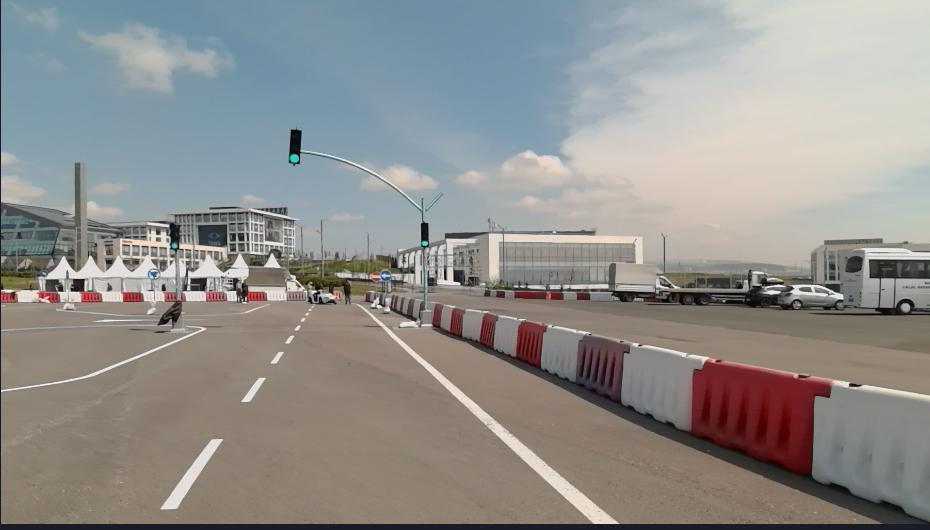nesne: (3, 300, 623, 529), (432, 302, 929, 522), (150, 302, 621, 530), (0, 302, 315, 526), (353, 301, 619, 526), (692, 354, 827, 479), (813, 380, 928, 518), (1, 323, 205, 389), (301, 148, 448, 218), (618, 340, 703, 437), (841, 247, 928, 315), (159, 436, 224, 509), (575, 332, 630, 403), (673, 266, 782, 301), (609, 263, 682, 301), (542, 324, 582, 384), (757, 284, 842, 309), (511, 319, 553, 368), (246, 266, 304, 290), (467, 286, 544, 299), (495, 312, 518, 355), (156, 301, 183, 330), (479, 310, 499, 347), (242, 375, 267, 404), (451, 305, 470, 338), (552, 291, 619, 300), (465, 308, 481, 344), (314, 278, 337, 302), (401, 310, 431, 327), (290, 124, 302, 163), (438, 307, 454, 336), (173, 247, 180, 301), (422, 247, 428, 309), (235, 278, 248, 304), (342, 275, 352, 303), (432, 304, 442, 330), (269, 348, 286, 363), (101, 291, 122, 303), (170, 222, 179, 250), (147, 264, 161, 281), (1, 289, 19, 302), (420, 220, 429, 246), (37, 292, 58, 303), (81, 291, 100, 303), (287, 288, 304, 301), (183, 292, 205, 302), (205, 289, 225, 300), (590, 292, 614, 301), (515, 291, 544, 298), (20, 292, 38, 303), (264, 291, 286, 300), (413, 297, 422, 319), (305, 278, 313, 302), (399, 297, 409, 316), (146, 300, 157, 316), (248, 290, 265, 300), (68, 291, 81, 304), (122, 293, 143, 301), (369, 268, 381, 282), (381, 296, 391, 312), (380, 267, 392, 280), (562, 291, 576, 301), (468, 288, 485, 296), (544, 282, 551, 301), (408, 298, 414, 319), (153, 277, 157, 308), (389, 294, 396, 311), (371, 294, 380, 307), (164, 291, 175, 301), (65, 270, 68, 304), (395, 295, 401, 312), (552, 291, 562, 301), (576, 293, 589, 300), (63, 303, 74, 311), (327, 278, 334, 290), (142, 292, 151, 301), (496, 290, 506, 298), (156, 291, 163, 302), (333, 290, 339, 302), (505, 291, 514, 299), (226, 290, 233, 300), (364, 290, 370, 301), (373, 281, 376, 301), (59, 292, 65, 301), (384, 278, 386, 300), (489, 290, 495, 297), (484, 290, 490, 296)
